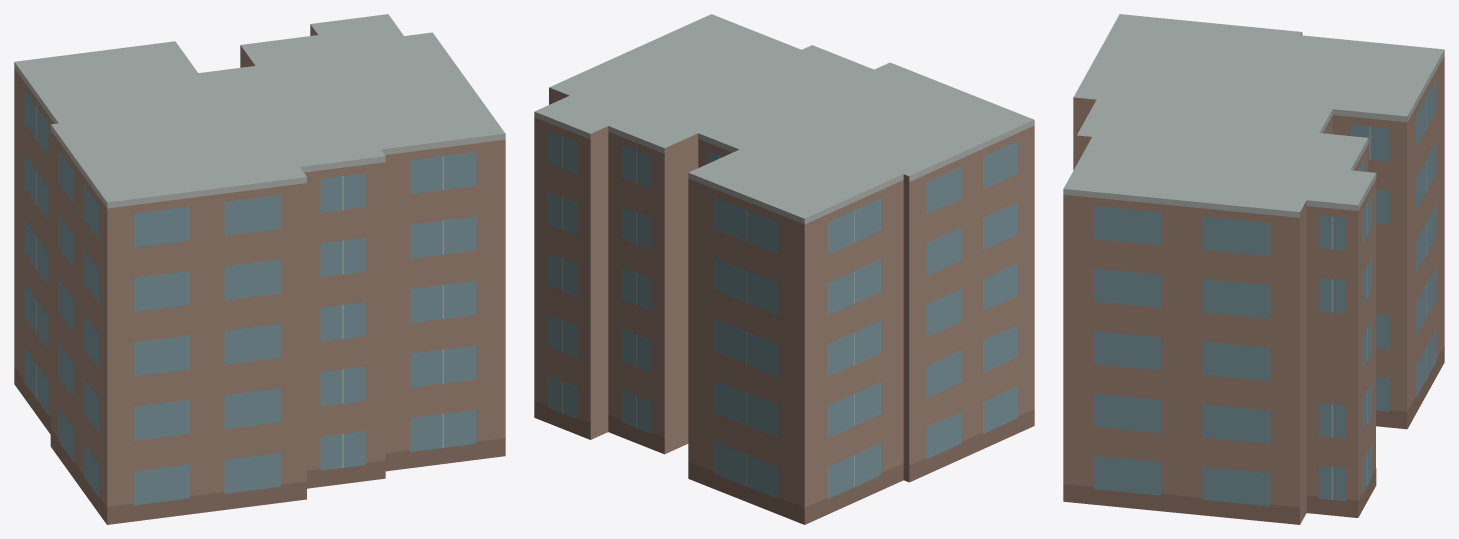
File: survey-upis-32775687.glb
3 renders of one model, left to right at view 1: azimuth 30°, elevation 25°; view 2: azimuth 150°, elevation 25°; view 3: azimuth 270°, elevation 25°, orthographic. The views are drawn at different scales.
Visible parts, largest first — view 1: survey-upis-32775687.tmp; view 2: survey-upis-32775687.tmp; view 3: survey-upis-32775687.tmp.
Part boxes in pixels (x1=…): survey-upis-32775687.tmp: x1=14, y1=14, x2=505, y2=524; survey-upis-32775687.tmp: x1=534, y1=14, x2=1034, y2=524; survey-upis-32775687.tmp: x1=1063, y1=14, x2=1444, y2=524.
Bounding box in the file's own units: 17.81 × 13.1 × 14.49.
